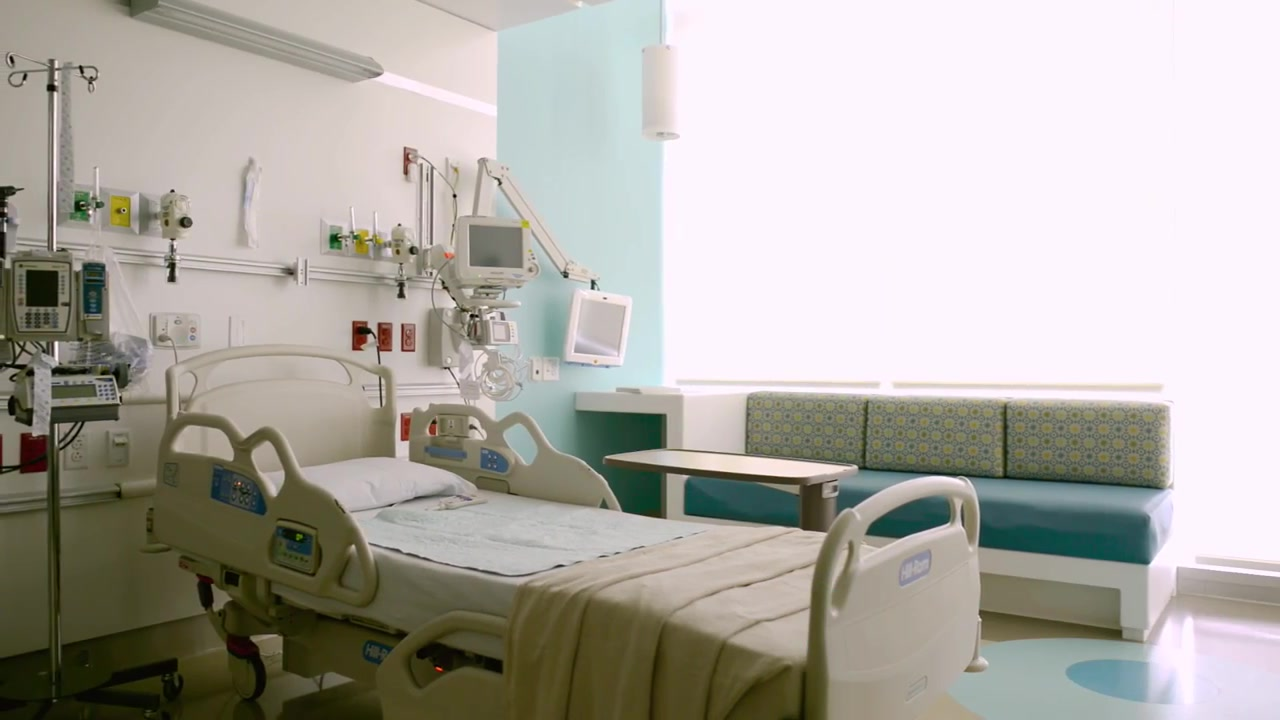bedrail: (152, 411, 377, 610), (408, 402, 620, 512)
bedside_monitor: (455, 215, 534, 287), (563, 290, 631, 368)
foot_board: (804, 473, 990, 720)
hospital_bed: (152, 341, 992, 720)
infusion_pump: (1, 248, 112, 344)
iv_pole: (1, 57, 104, 681)
overbed_table: (604, 448, 859, 531)
sofa: (683, 386, 1182, 644)
syringe_pump: (6, 370, 127, 427)
